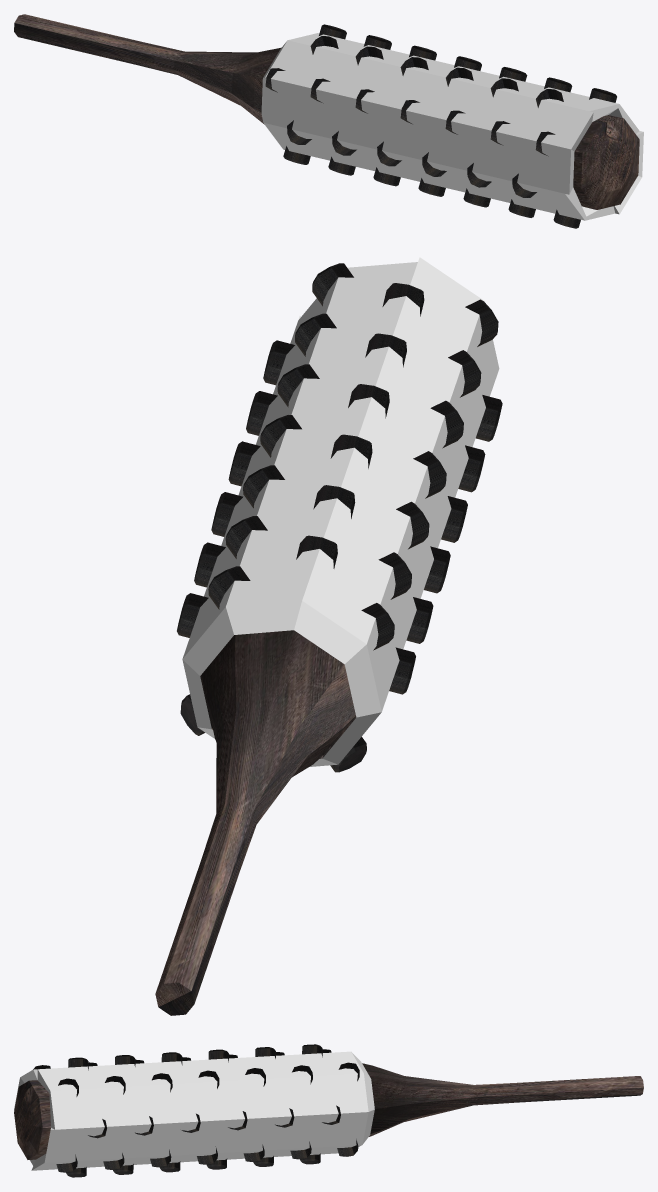
Rendered from Gourdin.fbx.
3 views of the same model, one above another, from view 1: azimuth 30°, elevation 25°; view 2: azimuth 150°, elevation 25°; view 3: azimuth 270°, elevation 25° (orthographic). The views are drawn at different scales.
Parts seen in each view (by area): view 1: Cube; view 2: Cube; view 3: Cube.
Part boxes in pixels (box(x1,y1,x2,y2)): Cube: box(14, 14, 643, 228); Cube: box(155, 257, 502, 1015); Cube: box(14, 1044, 643, 1177).
Bounding box in the file's own units: 37.23 × 19.42 × 84.49.
3 materials, 2 textured.
